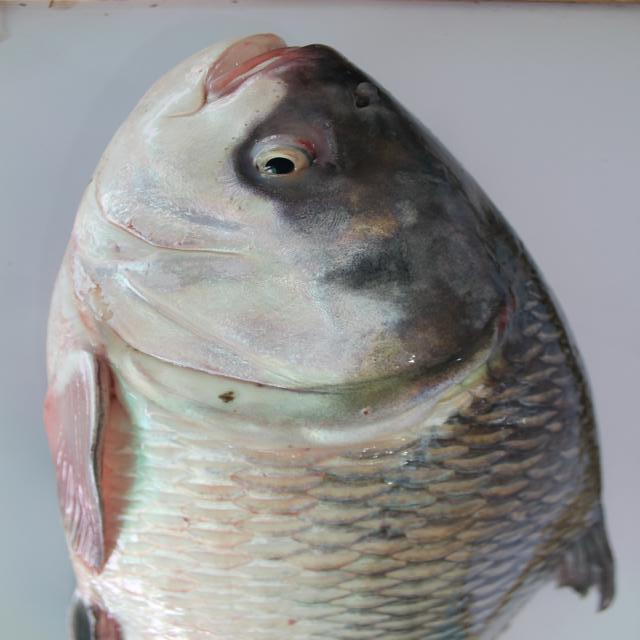Catla: (33, 29, 623, 640)
